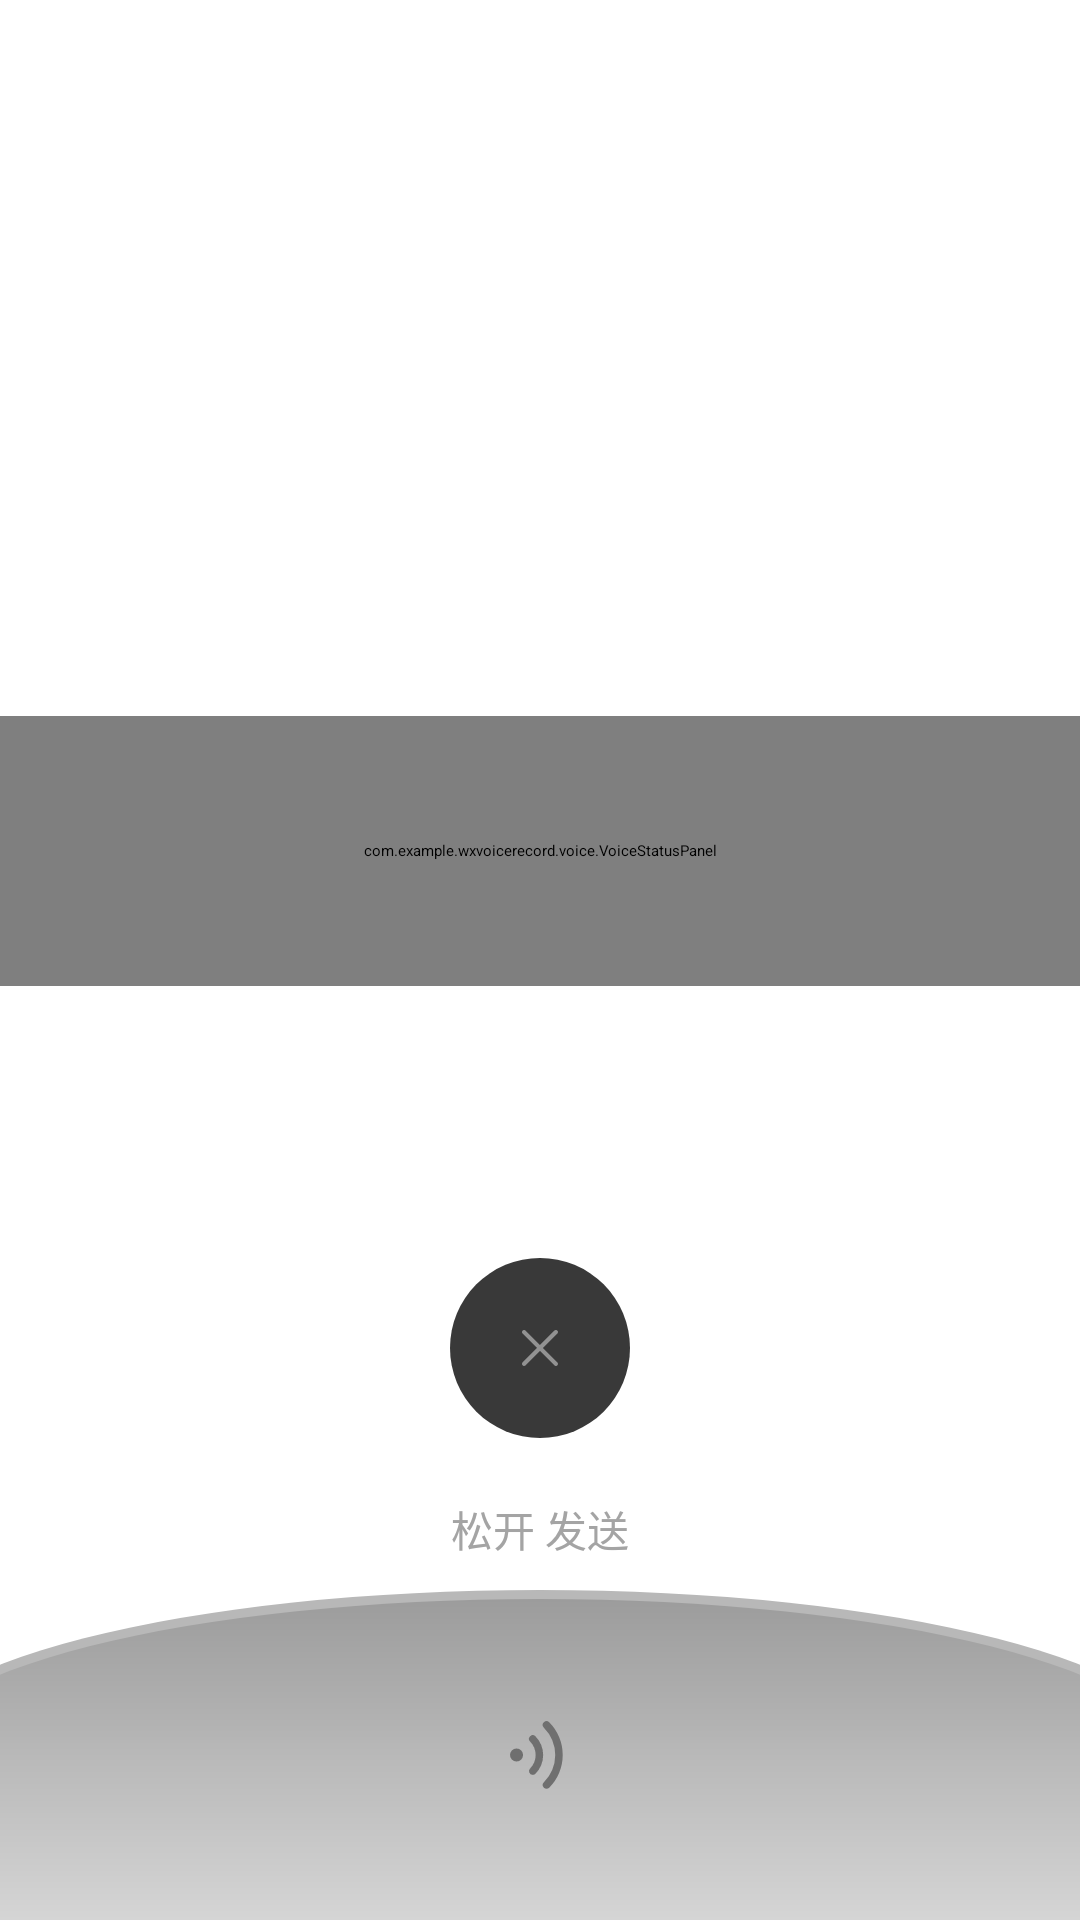

Named icons in this screenshot (1080px×1920px) and their bounding boxes, (x1, y1, x2, y2):
cancel: (450, 1258, 630, 1438)
